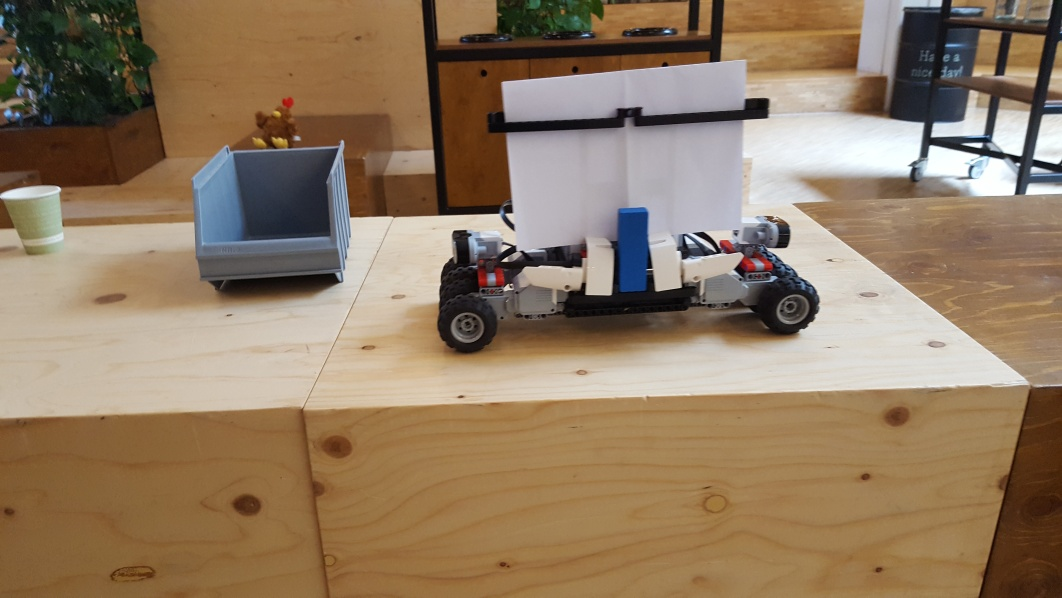car: (433, 57, 821, 355)
chicken: (253, 98, 299, 147)
cup: (2, 185, 67, 256)
tray: (192, 141, 353, 290)
